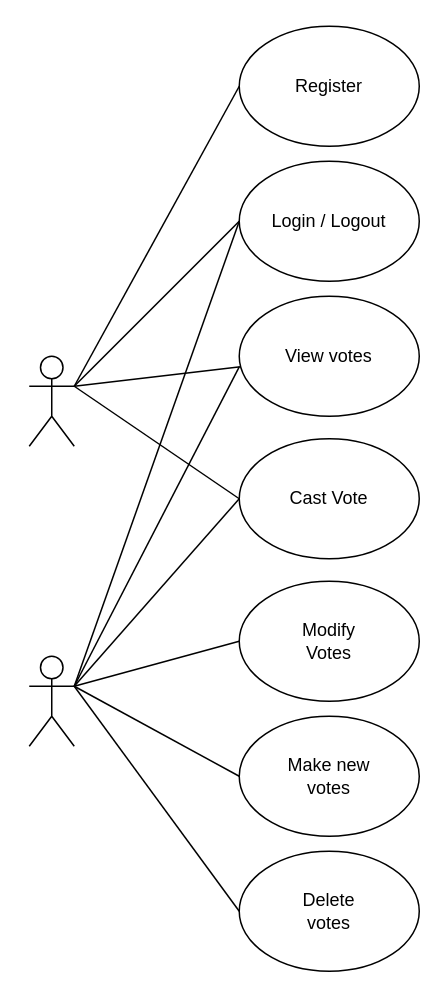
Image size: 446x998. Some labels were removed from this diagram. Each missing label, with the centre of its shape:
Admin: (x=51, y=700)
User: (x=51, y=400)
